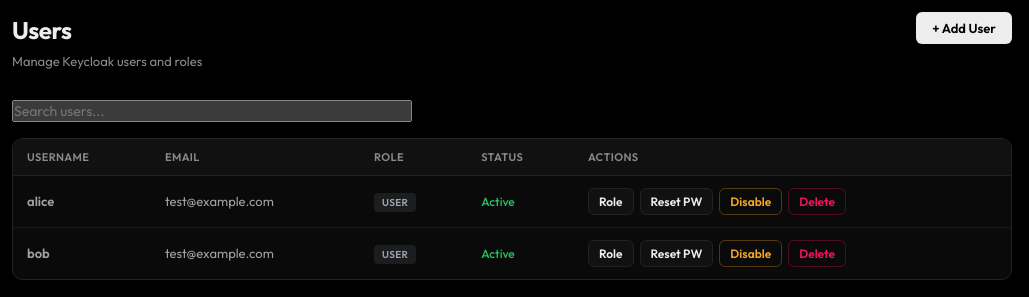
Test: Users page flows › shows pending feedback only on the active delete row
Expected: the text "alice" is shown, 13,176 -> 151,228
Click the button with aria-label "Delete user alice" at point(817, 202), box 788,188 -> 846,215
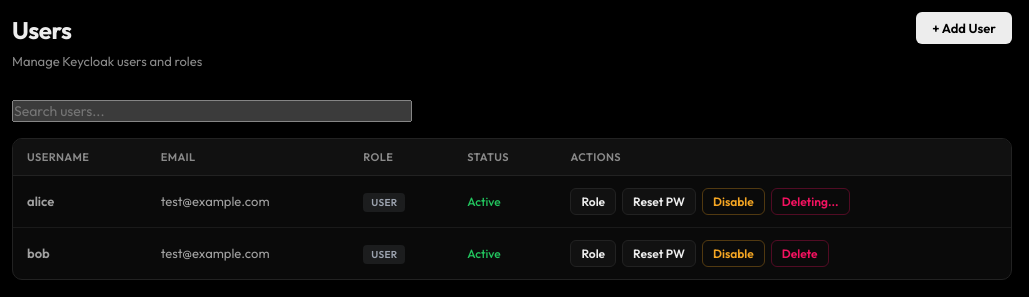
Expected: the button with aria-label "Delete user bob" reads "Delete", 771,240 -> 829,267
Expected: the button with aria-label "Delete user alice" reads "Deleting...", 771,188 -> 850,215
